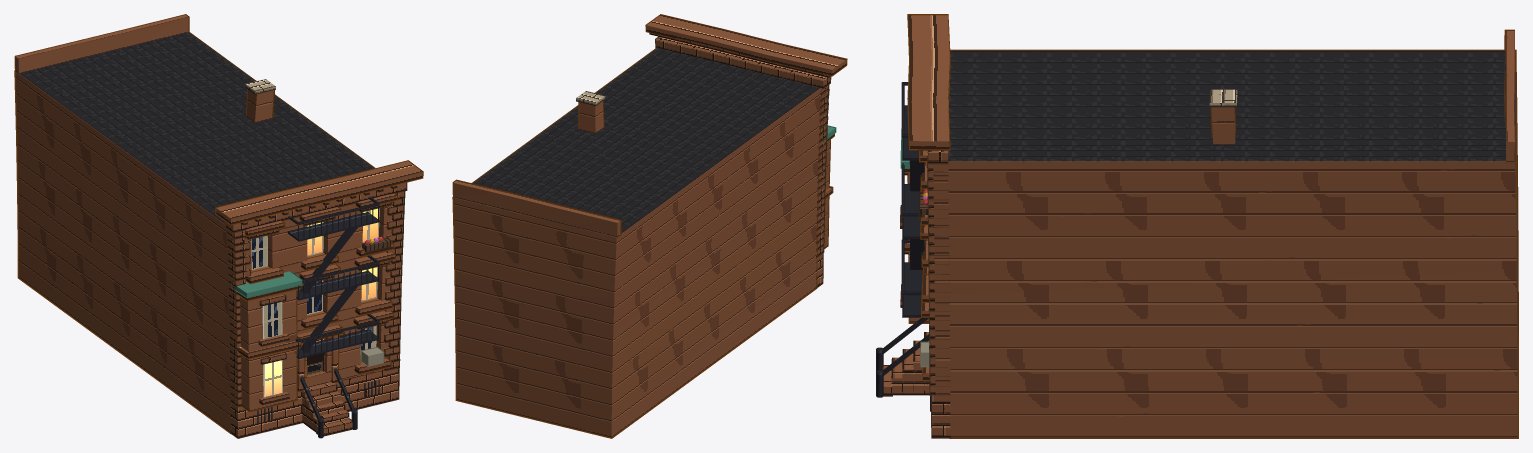
Rendered from Haus_stoop_5.glb.
3 views of the same model, side by side, from view 1: azimuth 30°, elevation 25°; view 2: azimuth 150°, elevation 25°; view 3: azimuth 270°, elevation 25° (orthographic). The views are drawn at different scales.
Visible parts, largest first — view 1: Haus_stoop_5; view 2: Haus_stoop_5; view 3: Haus_stoop_5.
Part boxes in pixels (x1,y1,x2,y2): Haus_stoop_5: (14,14,423,438); Haus_stoop_5: (452,14,847,438); Haus_stoop_5: (876,14,1518,438).
Size of the model in its own units: 12.08 by 14.41 by 25.96.
22 materials, 9 textured.
